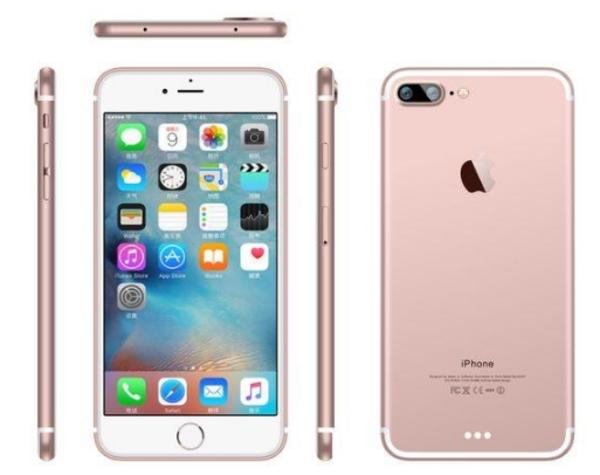phone: (94, 66, 292, 462), (379, 63, 577, 458), (24, 67, 66, 452), (312, 66, 340, 460), (84, 15, 302, 42)
